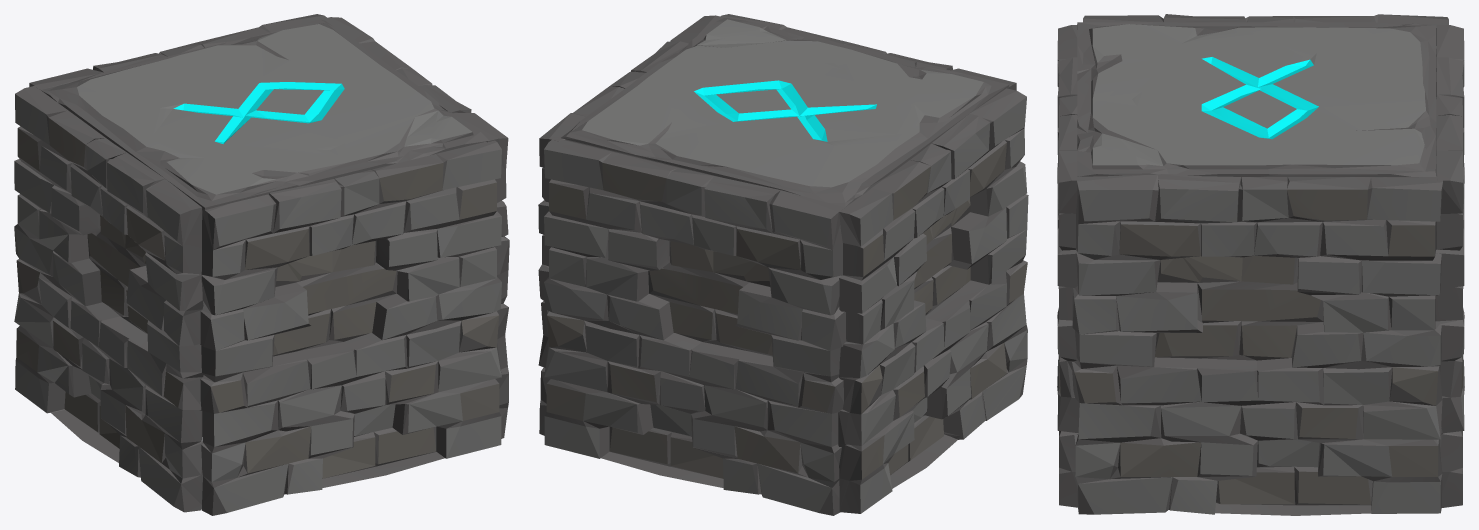
The model's file is SM_Env_Tiles_A_04.glb.
3 views of the same model, side by side, from view 1: azimuth 30°, elevation 25°; view 2: azimuth 150°, elevation 25°; view 3: azimuth 270°, elevation 25° (orthographic). The views are drawn at different scales.
Visible parts, largest first — view 1: SM_Env_Tiles_A_04; view 2: SM_Env_Tiles_A_04; view 3: SM_Env_Tiles_A_04.
Boxes of the visible parts, left/top/right/bottom form: SM_Env_Tiles_A_04: left=14, top=14, right=509, bottom=515; SM_Env_Tiles_A_04: left=538, top=14, right=1028, bottom=515; SM_Env_Tiles_A_04: left=1057, top=14, right=1464, bottom=515.
Bounding box in the file's own units: 5.74 × 5.2 × 5.68.
Materials: 1 (1 with a texture image).
